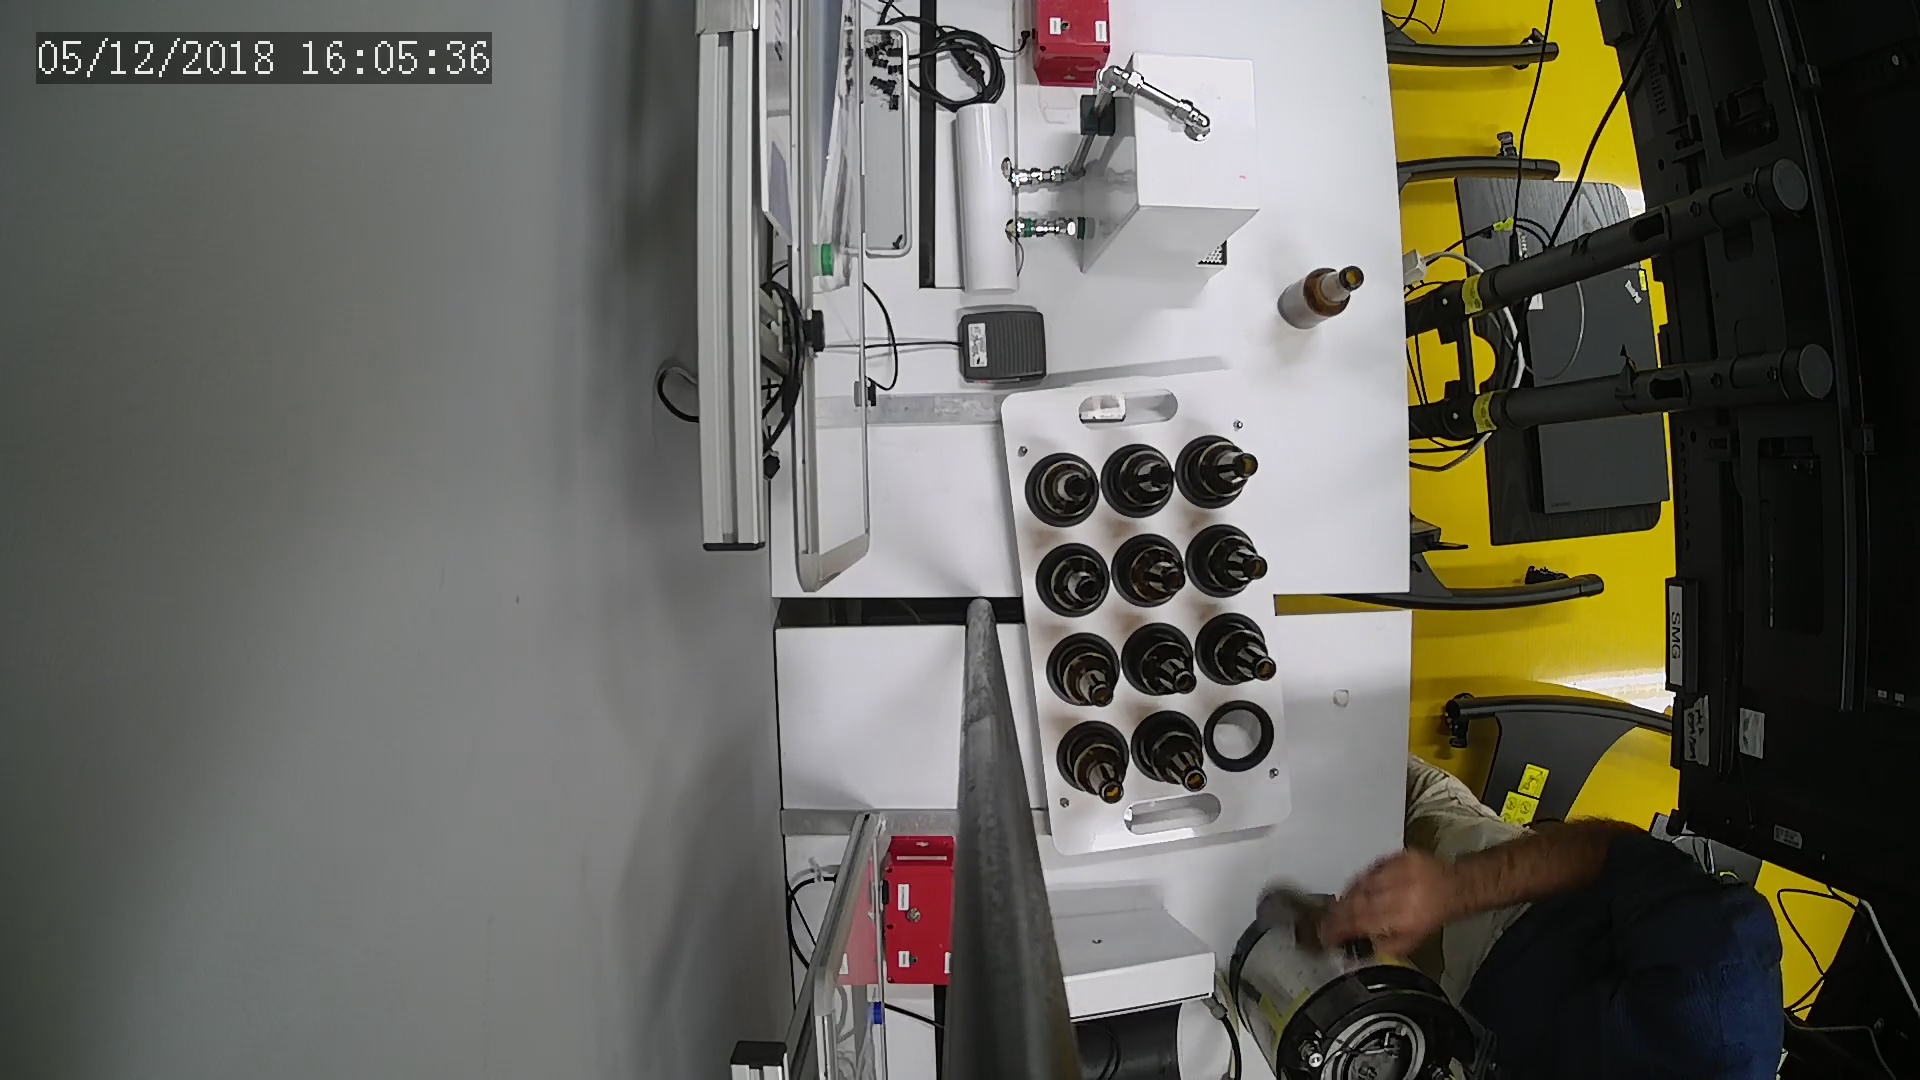filled_bottle: (1172, 429, 1265, 520), (1183, 518, 1278, 605), (1051, 713, 1129, 815), (1118, 618, 1204, 709), (1131, 707, 1216, 796), (1189, 611, 1278, 695), (1102, 438, 1179, 527), (1031, 541, 1114, 622), (1043, 630, 1124, 711), (1112, 531, 1191, 613), (1029, 451, 1097, 527)
trolley: (1004, 371, 1294, 851)
unfilled_bottle: (1273, 262, 1374, 330)
